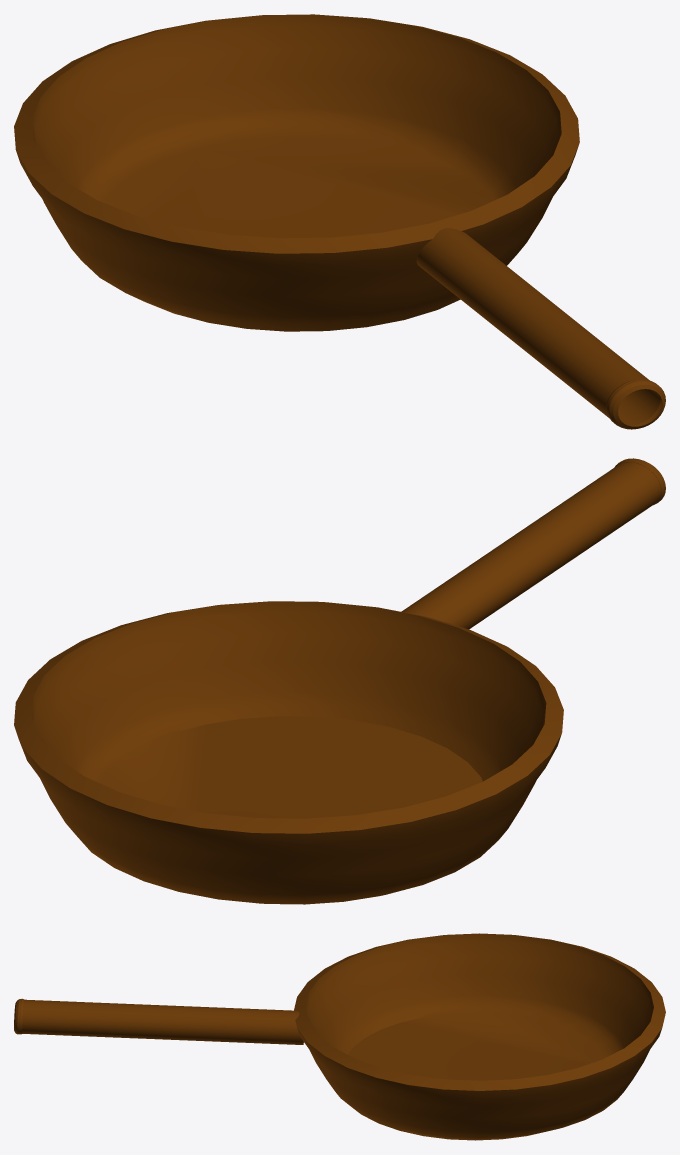
Rendered from pan.fbx.
3 views of the same model, one above another, from view 1: azimuth 30°, elevation 25°; view 2: azimuth 150°, elevation 25°; view 3: azimuth 270°, elevation 25° (orthographic). The views are drawn at different scales.
Visible parts, largest first — view 1: Cylinder.001; view 2: Cylinder.001; view 3: Cylinder.001.
Part boxes in pixels (x1=…): Cylinder.001: x1=14, y1=14, x2=665, y2=429; Cylinder.001: x1=14, y1=458, x2=665, y2=904; Cylinder.001: x1=14, y1=933, x2=665, y2=1140.
Bounding box in the file's own units: 171 × 40.05 × 300.
